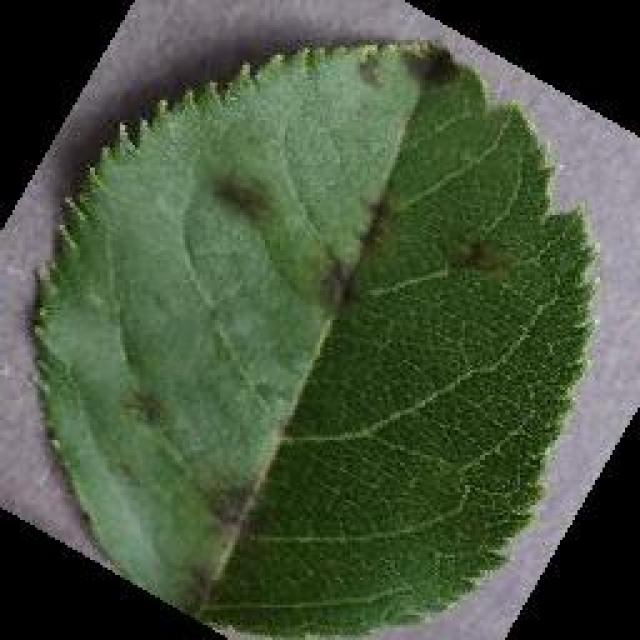apple scab disease: (25, 32, 603, 638)
